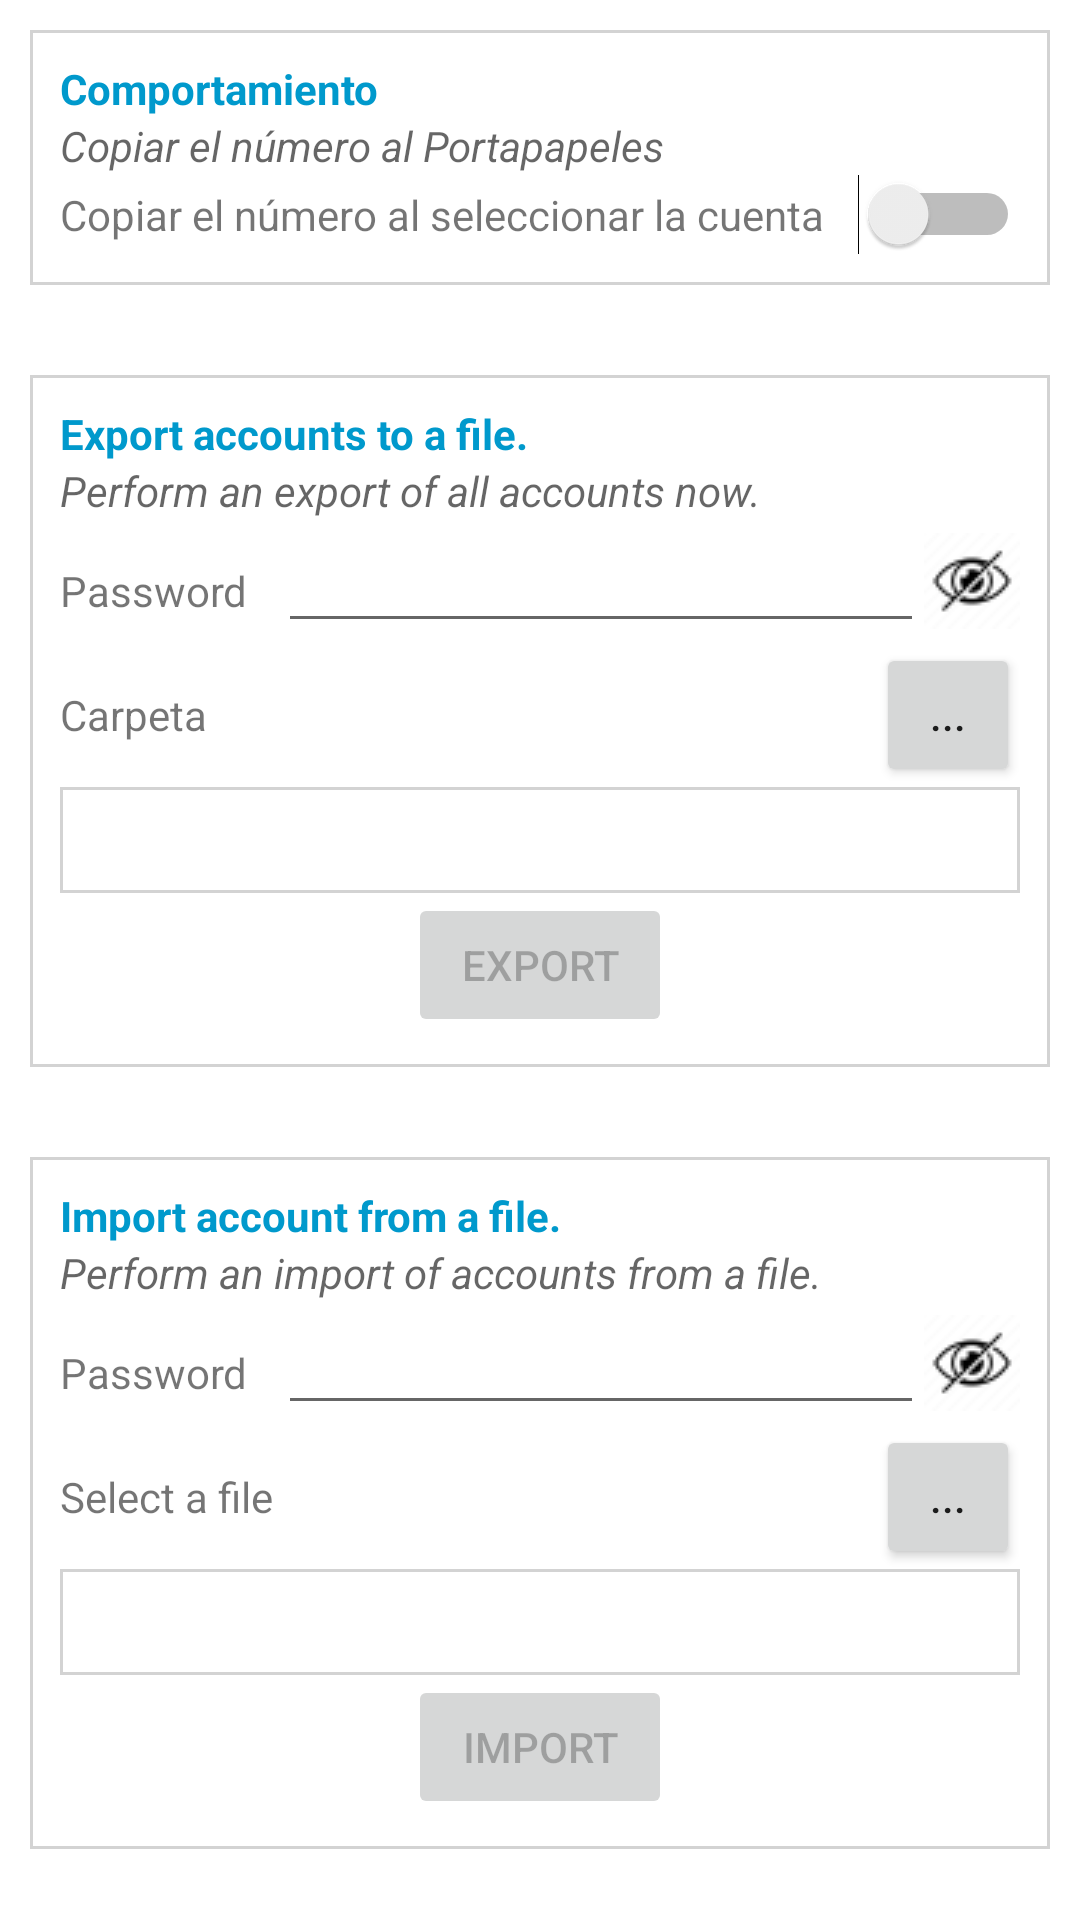

Screen size 1080px x 1920px. Icon name, then its box in pixels as (x1, y1, x2, y2):
hide: (932, 550, 1012, 612), (932, 1332, 1012, 1394)
